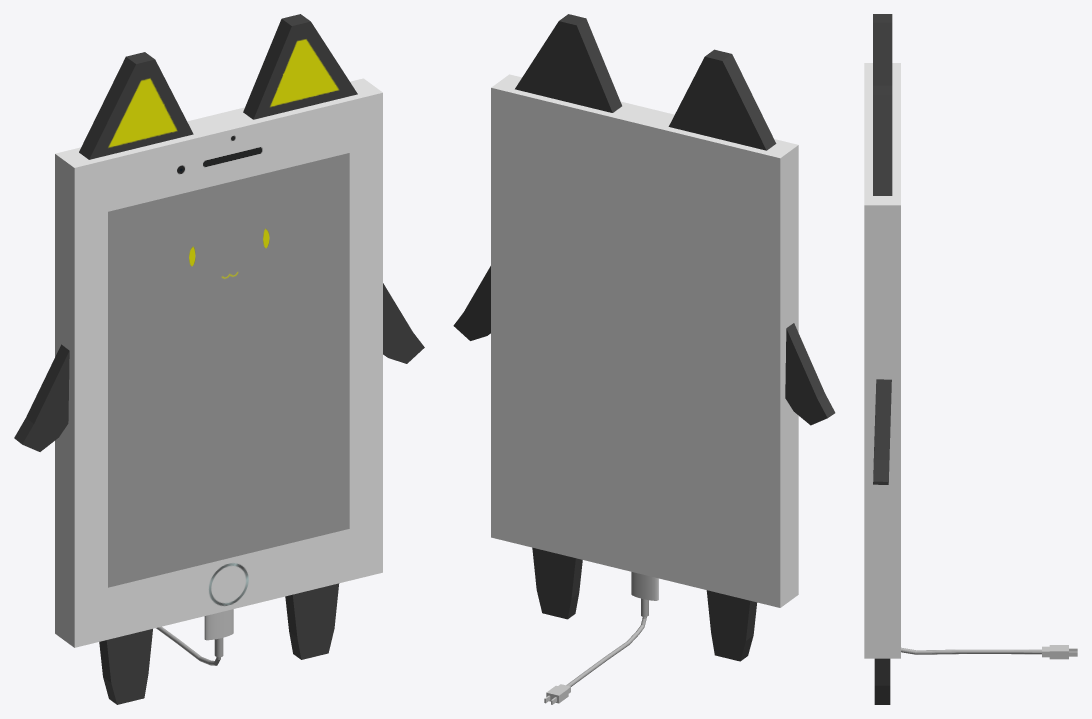
Rendered from smartcat.fbx.
3 renders of one model, left to right at view 1: azimuth 30°, elevation 25°; view 2: azimuth 150°, elevation 25°; view 3: azimuth 270°, elevation 25°, orthographic. The views are drawn at different scales.
Visible parts, largest first — view 1: smartcat; view 2: smartcat; view 3: smartcat.
Part boxes in pixels (x1,y1,x2,y2): smartcat: (14, 14, 424, 704); smartcat: (453, 14, 835, 704); smartcat: (864, 14, 1077, 704).
Size of the model in its own units: 17.79 by 27 by 8.69.
